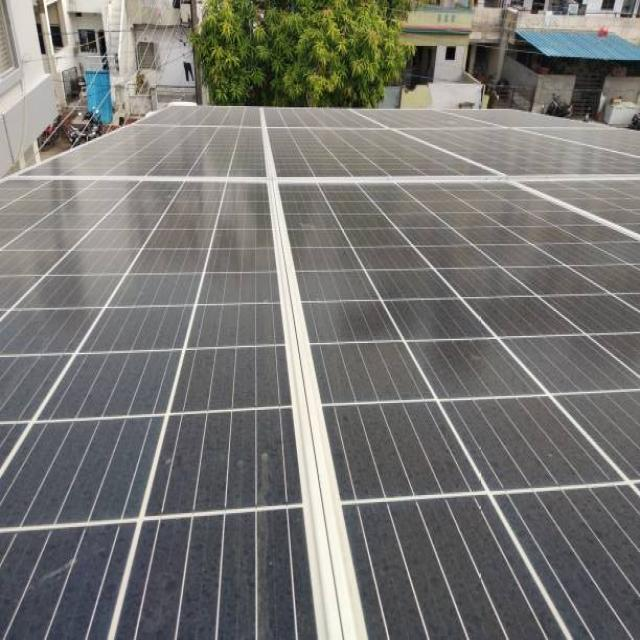dust-solar-panel: (0, 101, 640, 640)
